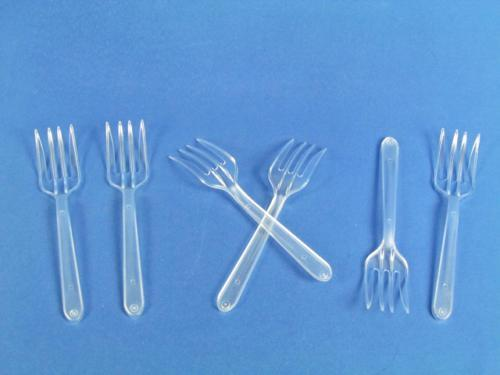Fork: (168, 137, 332, 282), (215, 138, 327, 312), (33, 124, 84, 323), (430, 128, 481, 320), (105, 119, 149, 317), (364, 136, 410, 315)
